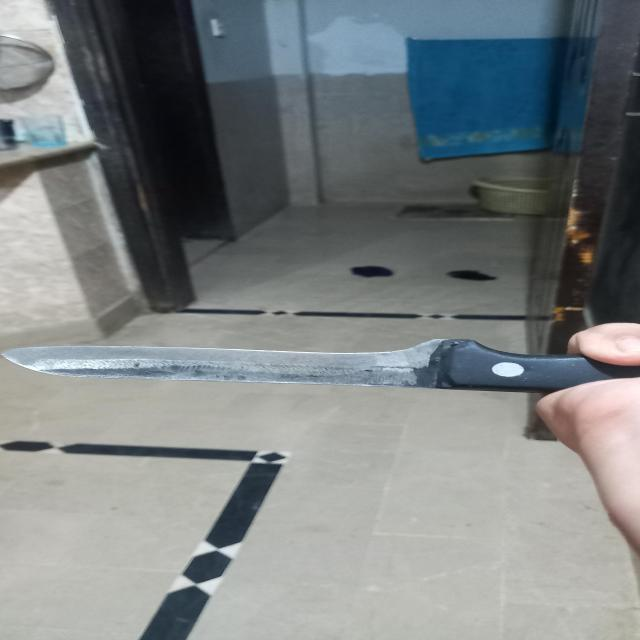faca: (2, 337, 640, 395)
